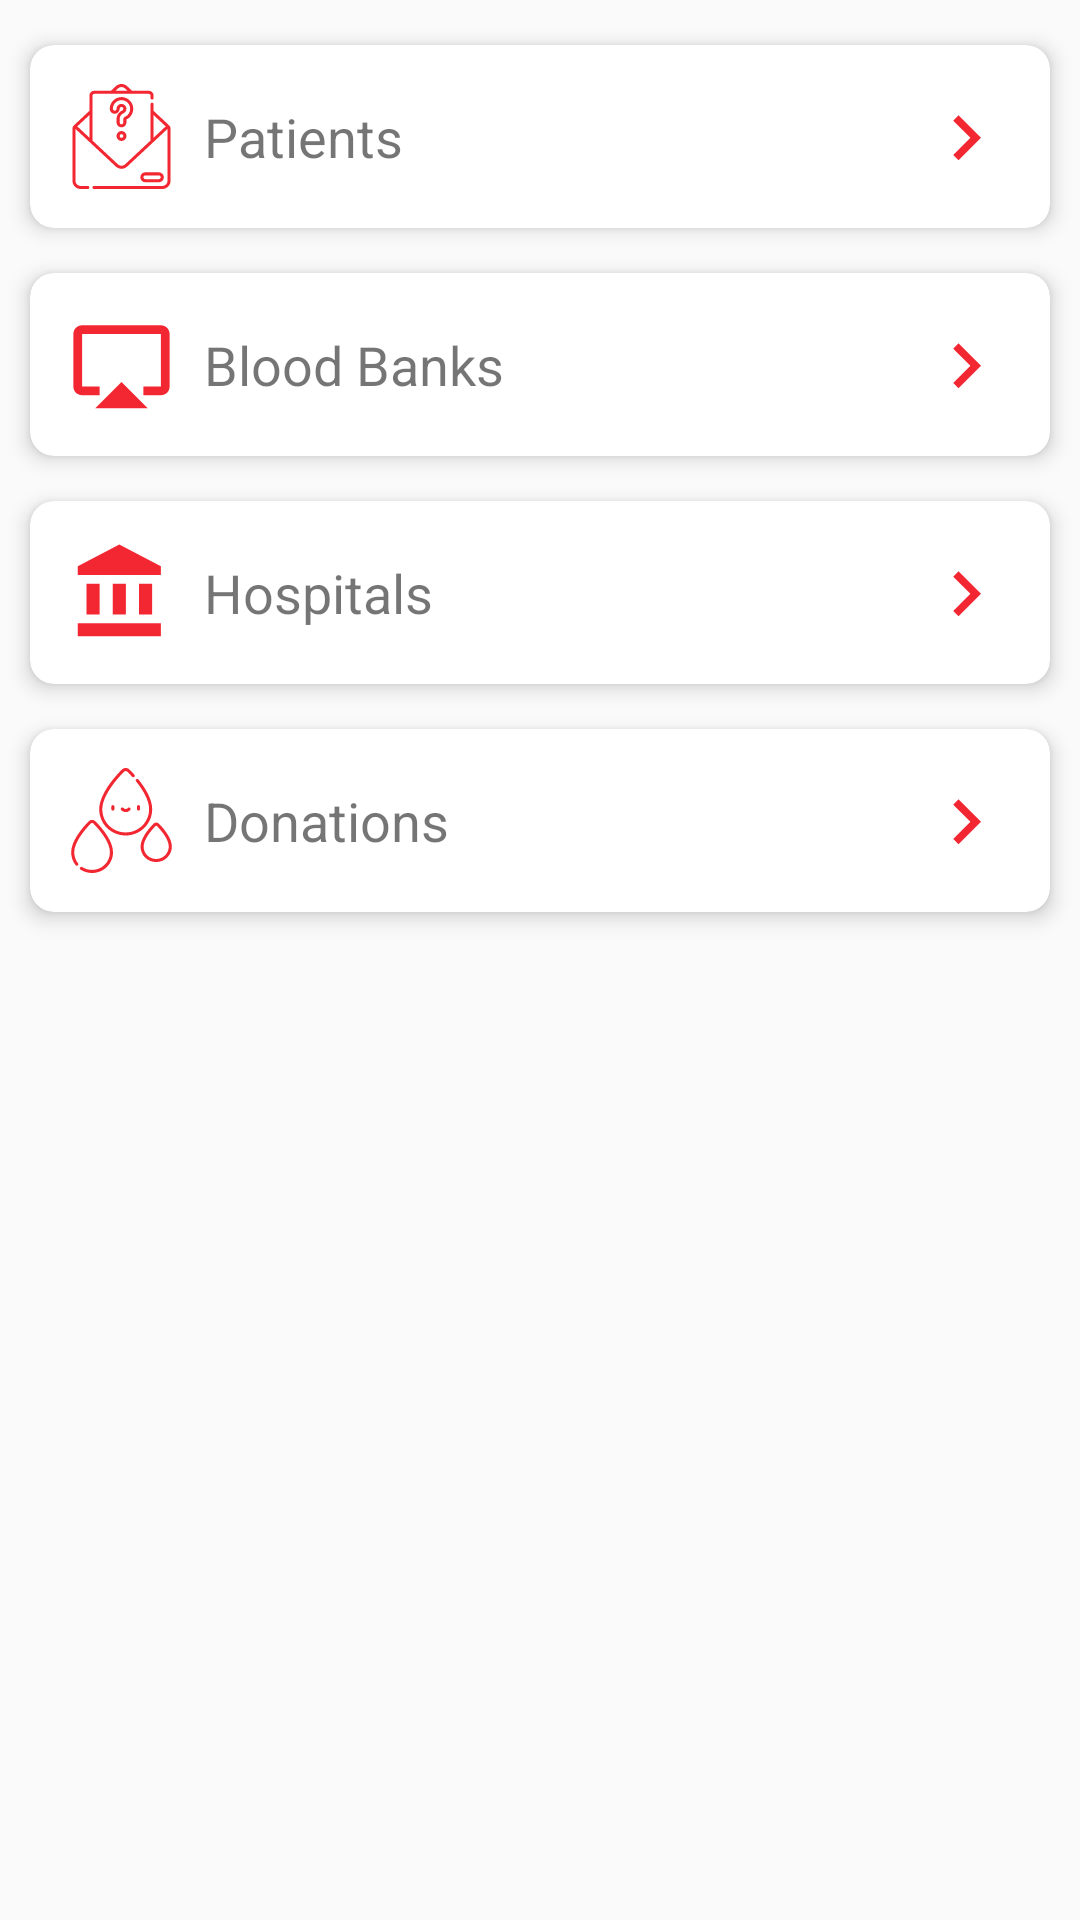

Icons on this 1080x1920 Android screen, each with the point to tap as (x=x, y=y):
blood: (x=121, y=820)
request: (x=121, y=136)
